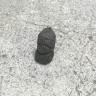Dog: (34, 27, 56, 65)
